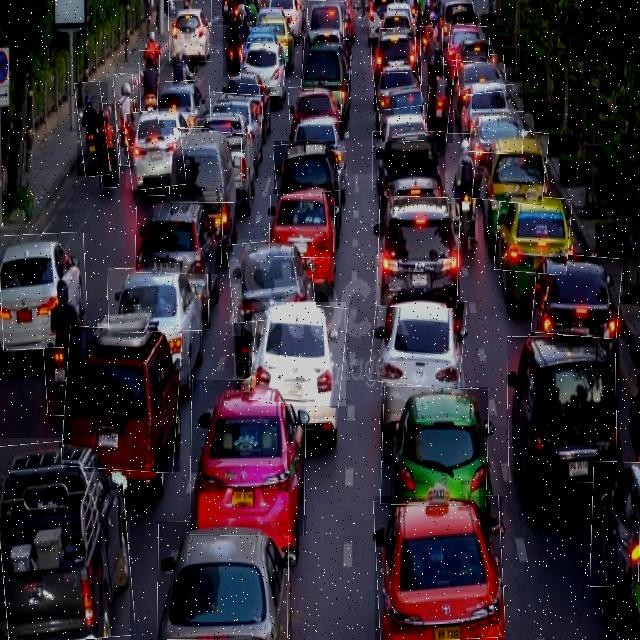Car: (375, 496, 503, 640), (190, 380, 306, 536), (64, 328, 180, 472), (507, 336, 617, 483), (157, 521, 288, 640), (381, 387, 488, 507), (0, 233, 86, 348), (252, 302, 346, 406), (378, 196, 460, 308), (371, 295, 465, 387), (532, 254, 621, 337), (229, 239, 315, 321), (136, 195, 222, 274), (108, 267, 209, 333), (591, 461, 640, 587), (496, 196, 571, 274), (474, 128, 548, 204), (170, 129, 242, 203), (126, 108, 184, 188), (270, 189, 334, 257), (274, 141, 338, 194), (169, 0, 212, 62), (302, 38, 351, 92), (158, 80, 210, 128), (462, 84, 514, 131), (470, 109, 523, 154), (374, 62, 421, 109), (210, 93, 262, 134), (292, 110, 344, 151), (289, 85, 342, 124), (242, 43, 288, 86), (457, 56, 506, 96), (372, 29, 416, 73), (380, 98, 425, 141), (307, 0, 344, 43), (449, 25, 490, 63)
Motorcycle: (42, 280, 82, 416), (446, 133, 478, 250), (77, 82, 108, 176), (115, 74, 138, 166), (428, 65, 453, 143), (99, 103, 119, 188), (420, 26, 444, 86), (140, 50, 160, 115), (223, 13, 239, 77)
Truck: (0, 438, 130, 640), (372, 131, 445, 190)
